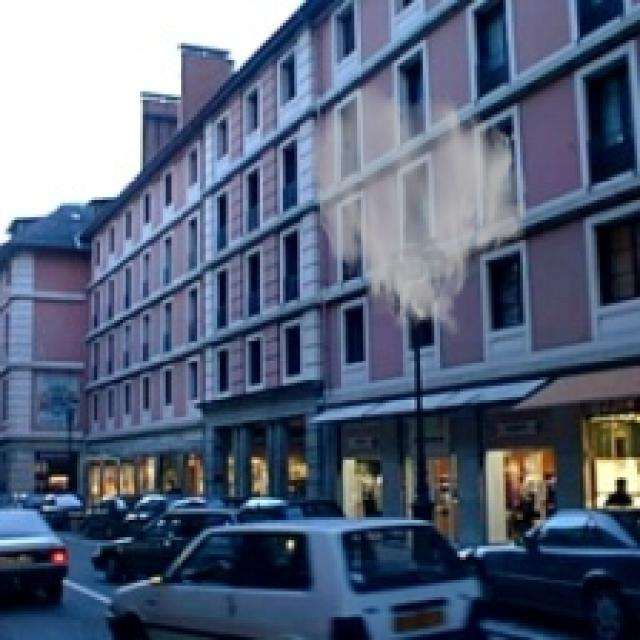smoke: (306, 80, 531, 340)
